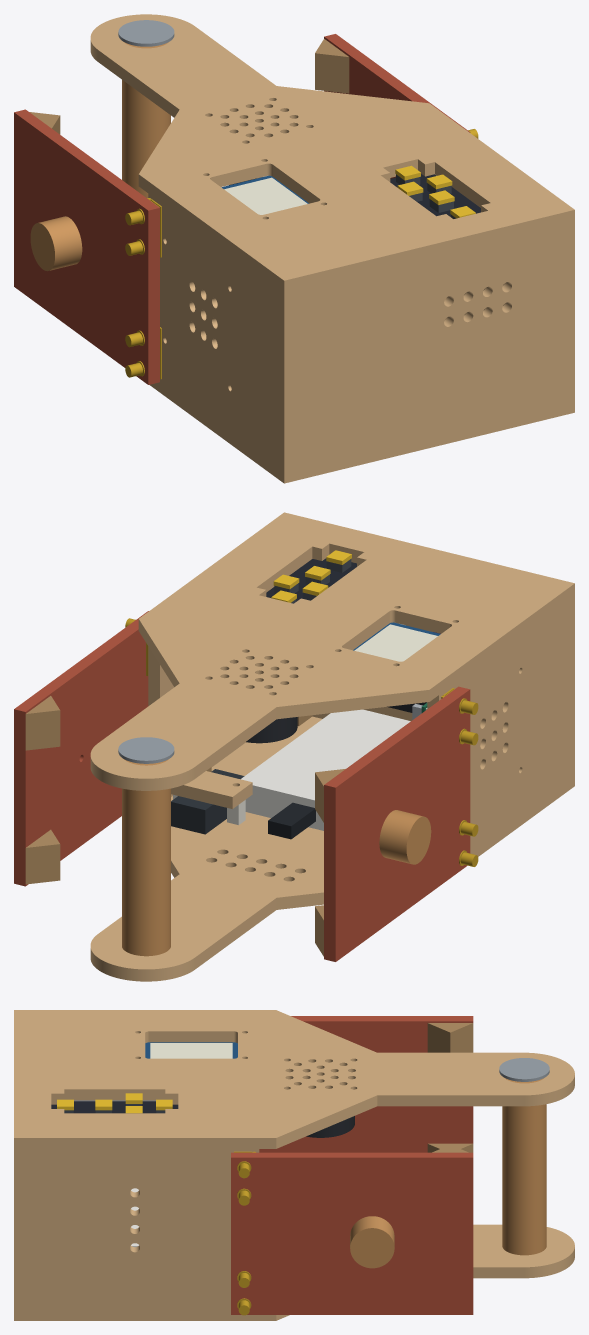
The model's file is house_roof_open-CWJUzJiY.glb.
3 renders of one model, top to bottom at view 1: azimuth 30°, elevation 25°; view 2: azimuth 150°, elevation 25°; view 3: azimuth 270°, elevation 25°, orthographic. The views are drawn at different scales.
Visible parts, largest first — view 1: house_roof_open_mesh (×10); view 2: house_roof_open_mesh (×14); view 3: house_roof_open_mesh (×10).
Boxes of the visible parts, left/top/right/bottom form: house_roof_open_mesh (×10): left=14, top=14, right=574, bottom=483; house_roof_open_mesh (×14): left=14, top=512, right=574, bottom=981; house_roof_open_mesh (×10): left=14, top=1010, right=574, bottom=1320.
Bounding box in the file's own units: 0.194 × 0.106 × 0.278.
